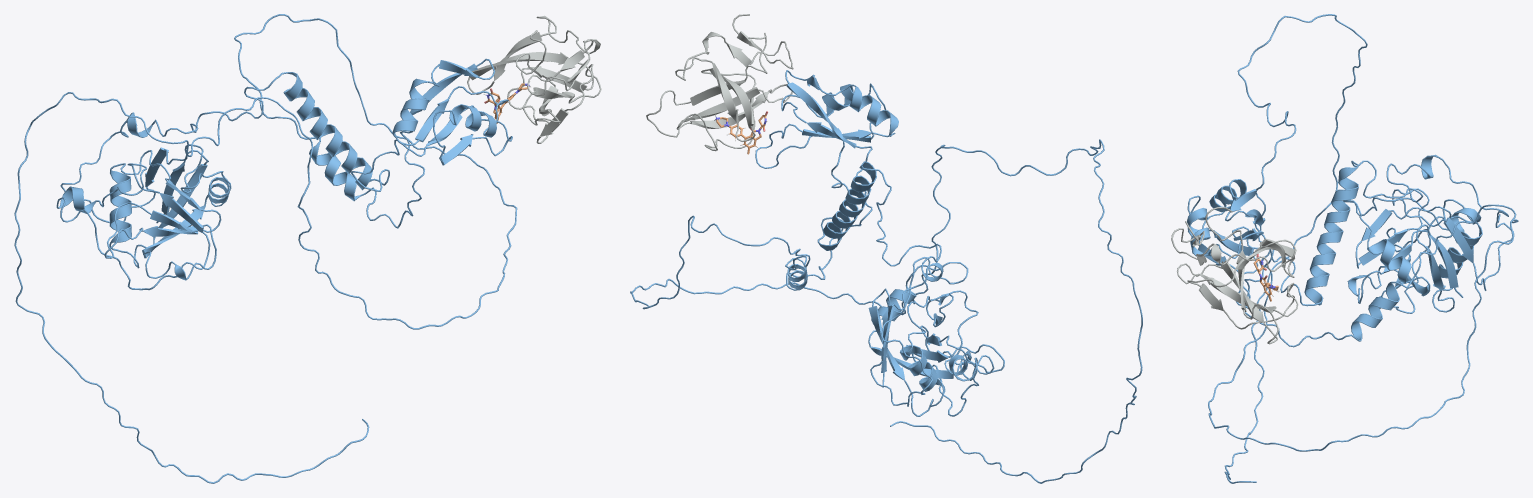
The picture shows the model from 3 angles, left to right: view 1: azimuth 30°, elevation 25°; view 2: azimuth 150°, elevation 25°; view 3: azimuth 270°, elevation 25°; orthographic projection. The views are drawn at different scales.
Visible parts, largest first — view 1: node-geom66, node-geom67; view 2: node-geom66, node-geom67; view 3: node-geom66, node-geom67.
Part boxes in pixels (x1,y1,x2,y2): node-geom66: (56,16,601,290); node-geom67: (14,14,517,483); node-geom66: (646,14,1004,416); node-geom67: (630,70,1142,483); node-geom66: (1171,154,1514,344); node-geom67: (1187,14,1518,483).
Size of the model in its own units: 145 by 98.81 by 81.52.
